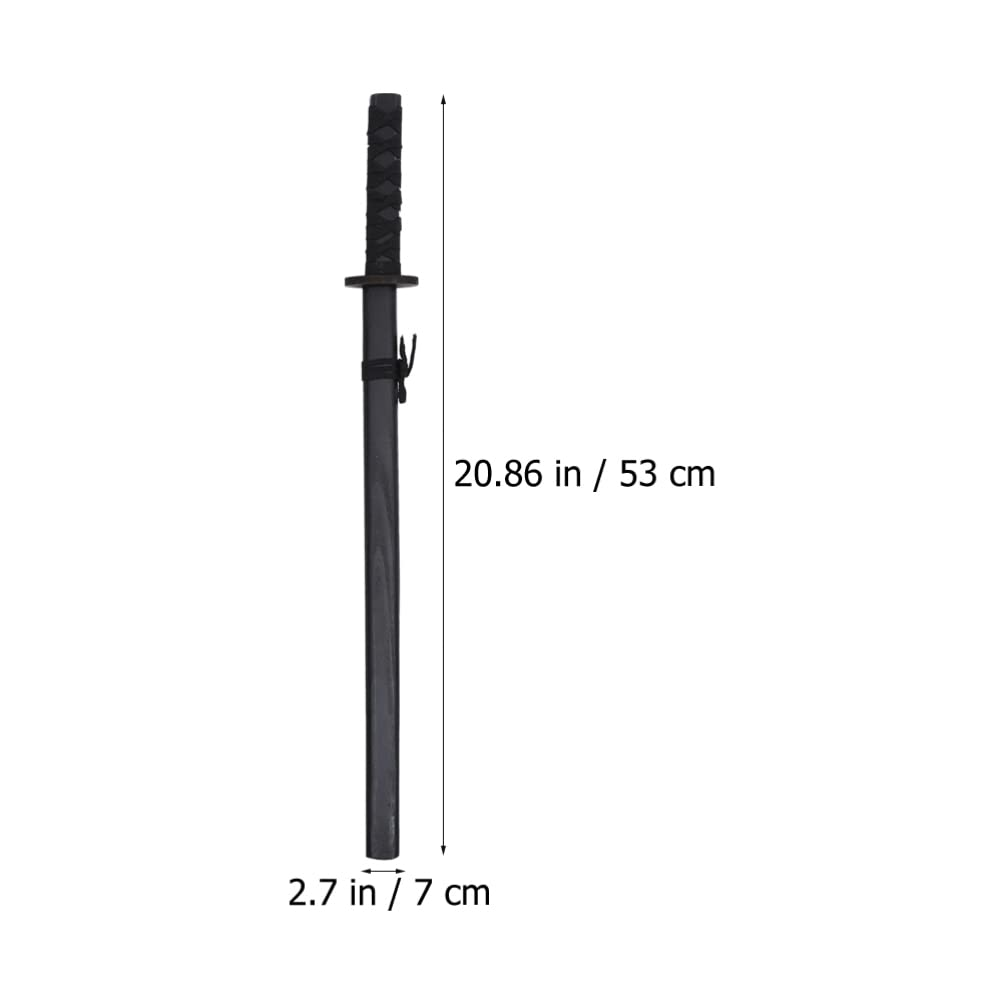/: (593, 459, 606, 492)
20.86: (455, 460, 542, 487)
53: (621, 459, 656, 487)
cm: (670, 466, 714, 487)
in: (556, 460, 580, 486)
